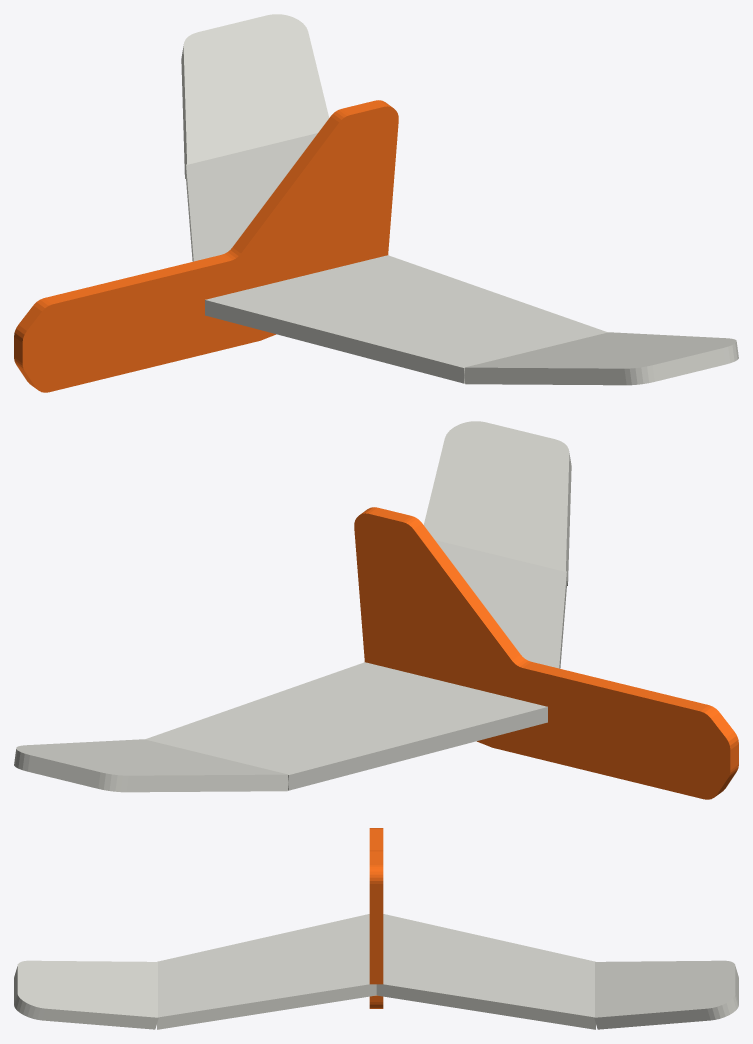
The picture shows the model from 3 angles, top to bottom: view 1: azimuth 30°, elevation 25°; view 2: azimuth 150°, elevation 25°; view 3: azimuth 270°, elevation 25°; orthographic projection. The views are drawn at different scales.
Parts seen in each view (by area): view 1: H, V; view 2: H, V; view 3: H, V.
Part boxes in pixels (left/top/right/bottom): H: left=181, top=14, right=738, bottom=385; V: left=14, top=100, right=398, bottom=392; H: left=14, top=421, right=571, bottom=792; V: left=354, top=507, right=738, bottom=799; H: left=14, top=914, right=738, bottom=1029; V: left=369, top=828, right=383, bottom=1008.
Bounding box in the file's own units: 0.1685 × 0.0655 × 0.2676.
